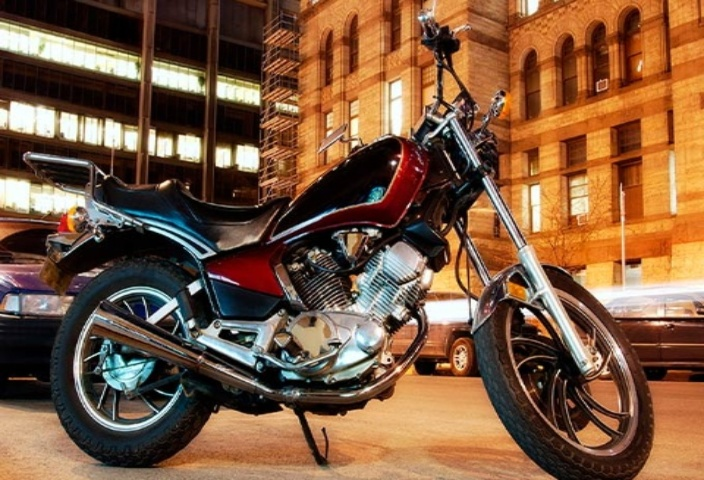motorcycle: (7, 24, 698, 480)
